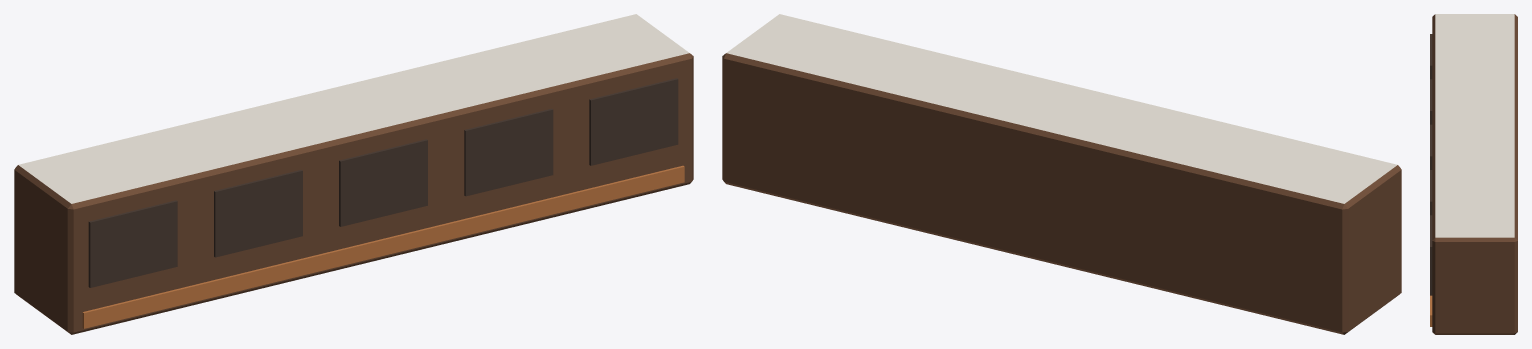
Rendered from counter.fbx.
3 views of the same model, side by side, from view 1: azimuth 30°, elevation 25°; view 2: azimuth 150°, elevation 25°; view 3: azimuth 270°, elevation 25° (orthographic). The views are drawn at different scales.
Parts seen in each view (by area): view 1: counter; view 2: counter; view 3: counter.
Boxes of the visible parts, bbox=[...] form: counter: bbox=[14, 14, 693, 334]; counter: bbox=[722, 14, 1401, 334]; counter: bbox=[1430, 14, 1517, 334].
Bounding box in the file's own units: 5 × 1 × 0.82.
